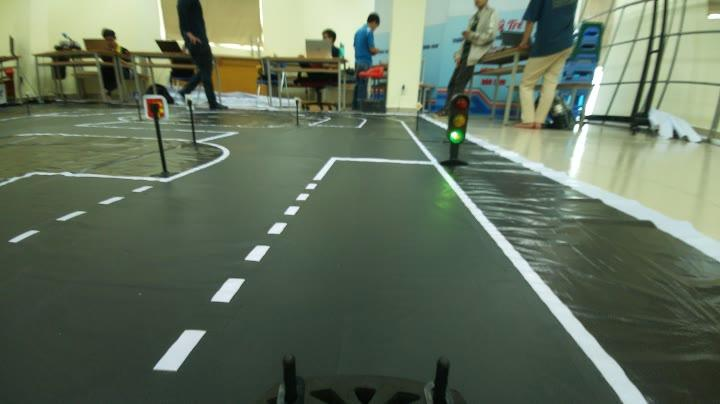trafficlight: (434, 90, 483, 176)
